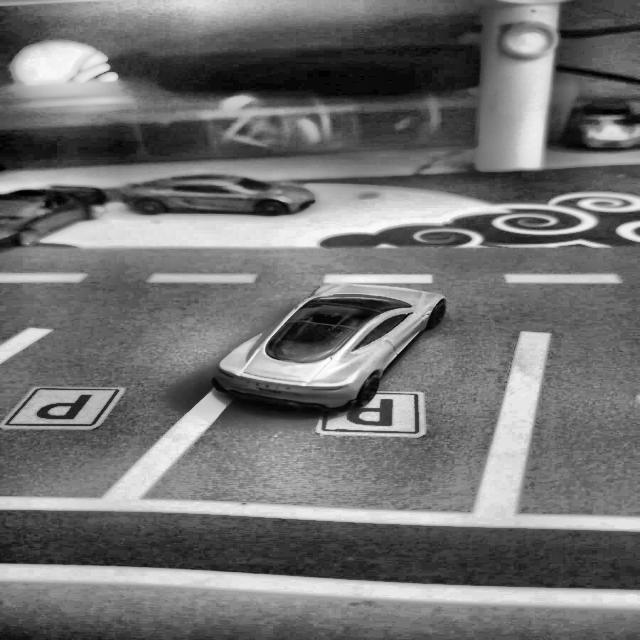car: (210, 282, 446, 411), (117, 172, 317, 216)
